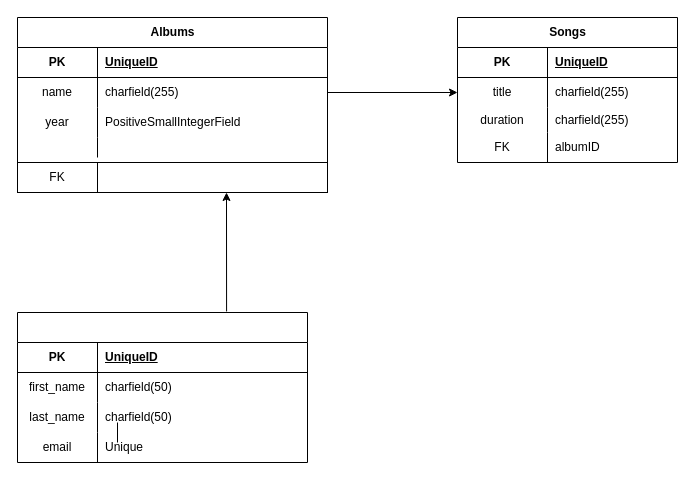
This 695x480 diagram has some shape labels left out. Each missing label, with the box of its shape:
userID: (96, 162, 328, 192)
Users: (16, 312, 308, 462)
